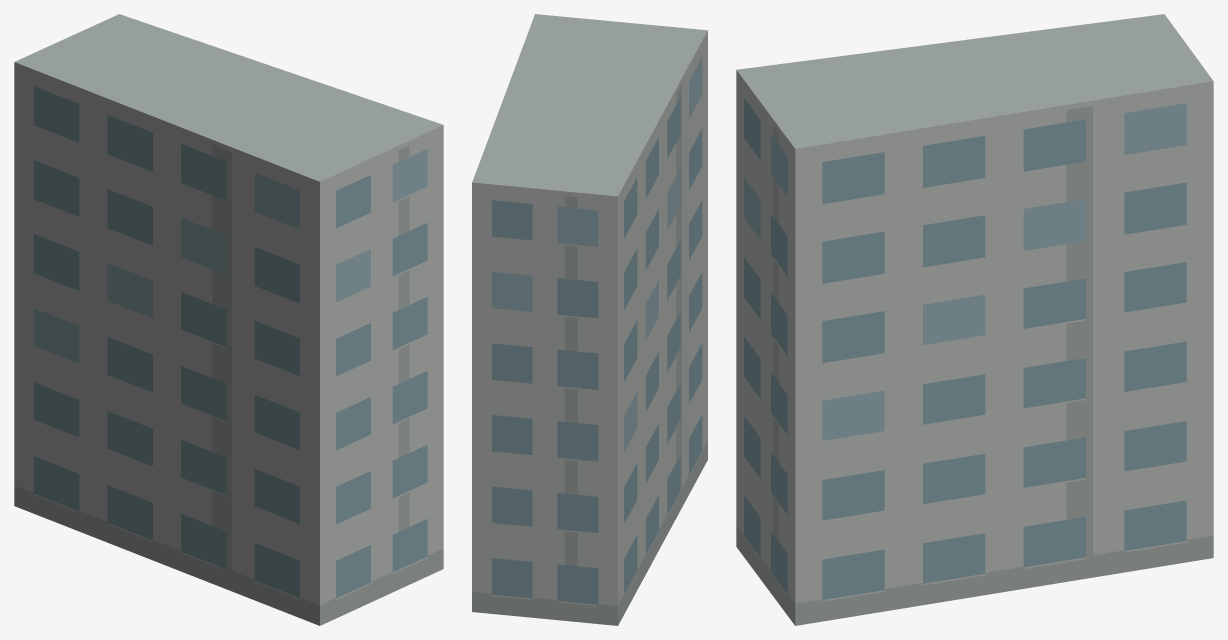
Rendered from survey-upis-32865467.glb.
3 renders of one model, left to right at view 1: azimuth 30°, elevation 25°; view 2: azimuth 150°, elevation 25°; view 3: azimuth 270°, elevation 25°, orthographic. The views are drawn at different scales.
Parts seen in each view (by area): view 1: survey-upis-32865467.tmp; view 2: survey-upis-32865467.tmp; view 3: survey-upis-32865467.tmp.
Part boxes in pixels (x1,y1,x2,y2): survey-upis-32865467.tmp: [14, 14, 443, 625]; survey-upis-32865467.tmp: [472, 14, 707, 625]; survey-upis-32865467.tmp: [736, 14, 1213, 625].
Bounding box in the file's own units: 13.52 × 22.25 × 20.19.
